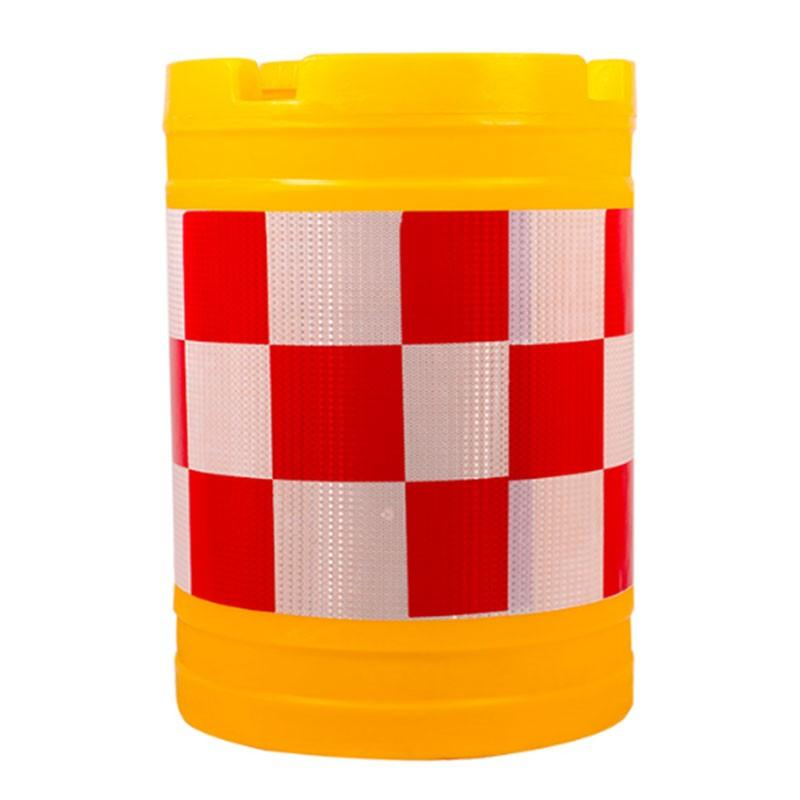sign: (146, 44, 654, 765)
